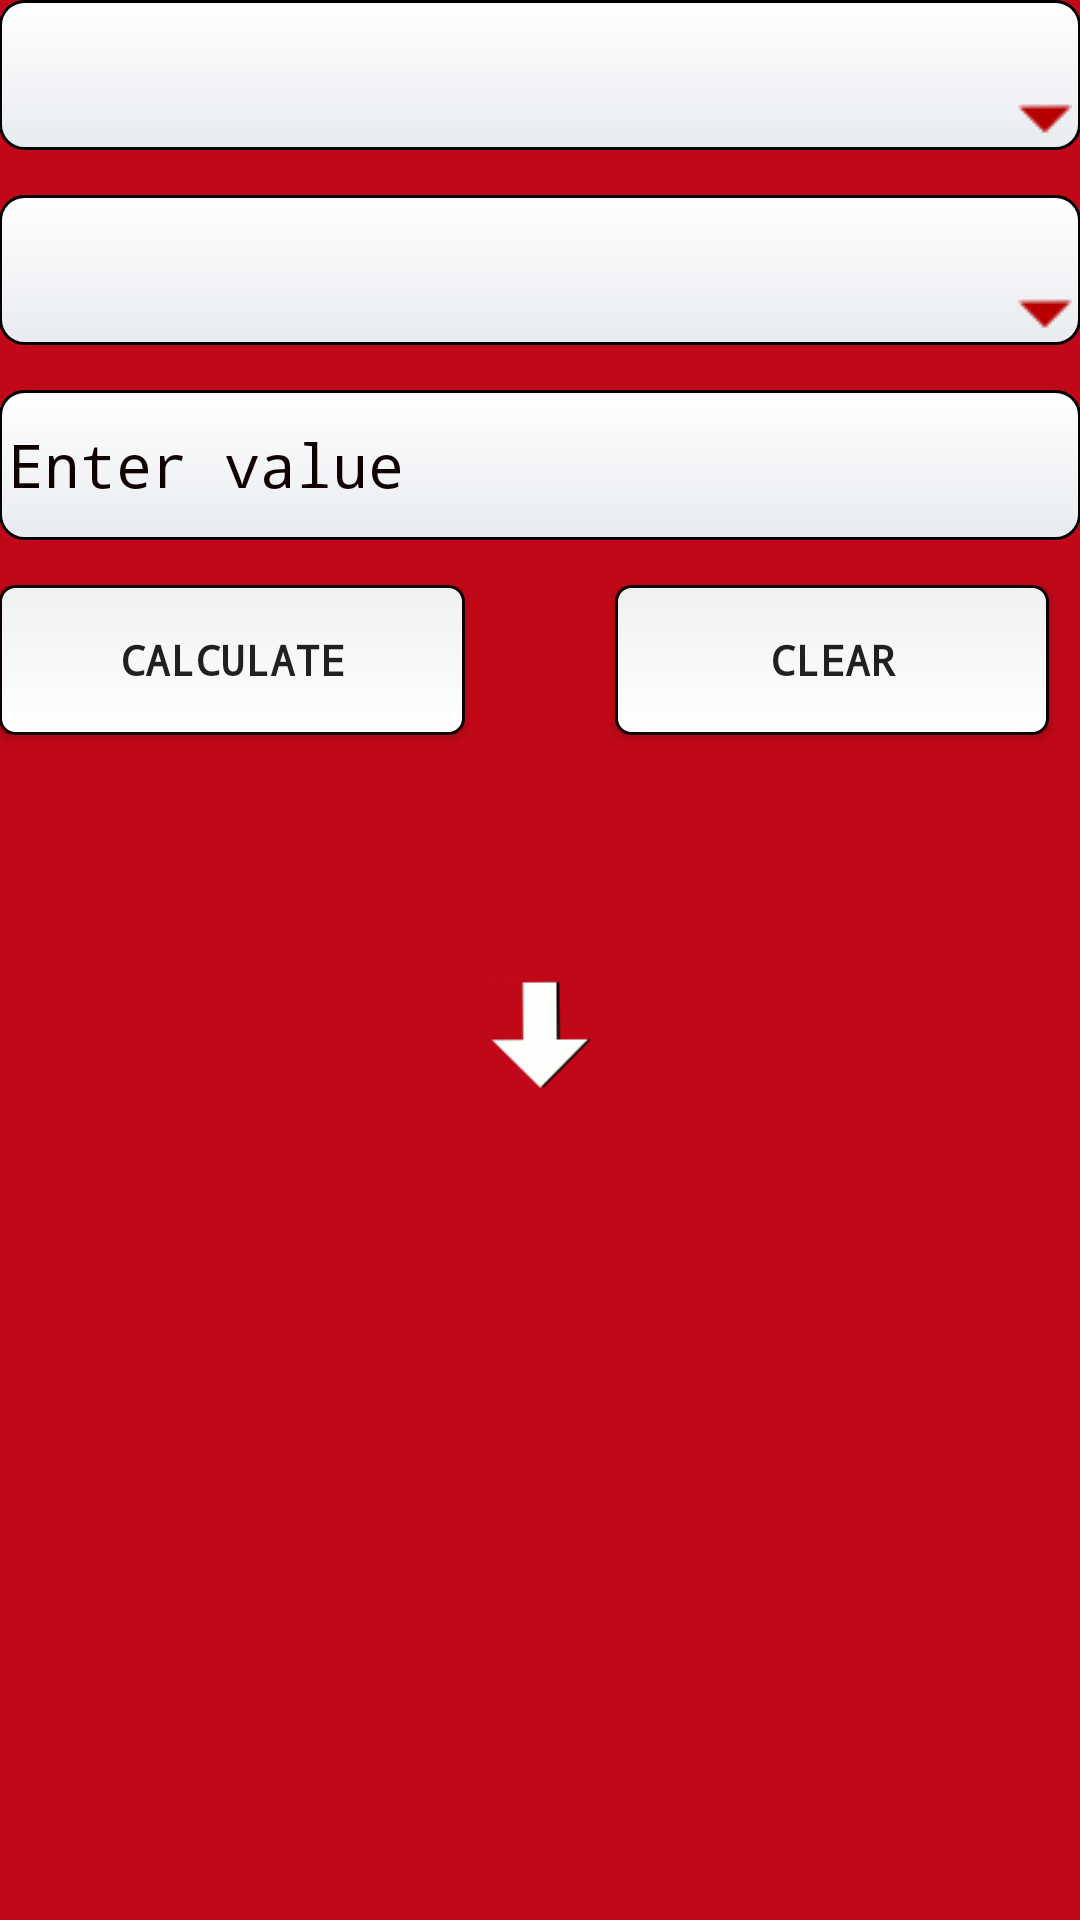

Icons on this 1080x1920 Android screen, each with the point to tap as (x=x, y=y):
convert: (x=541, y=1034)
